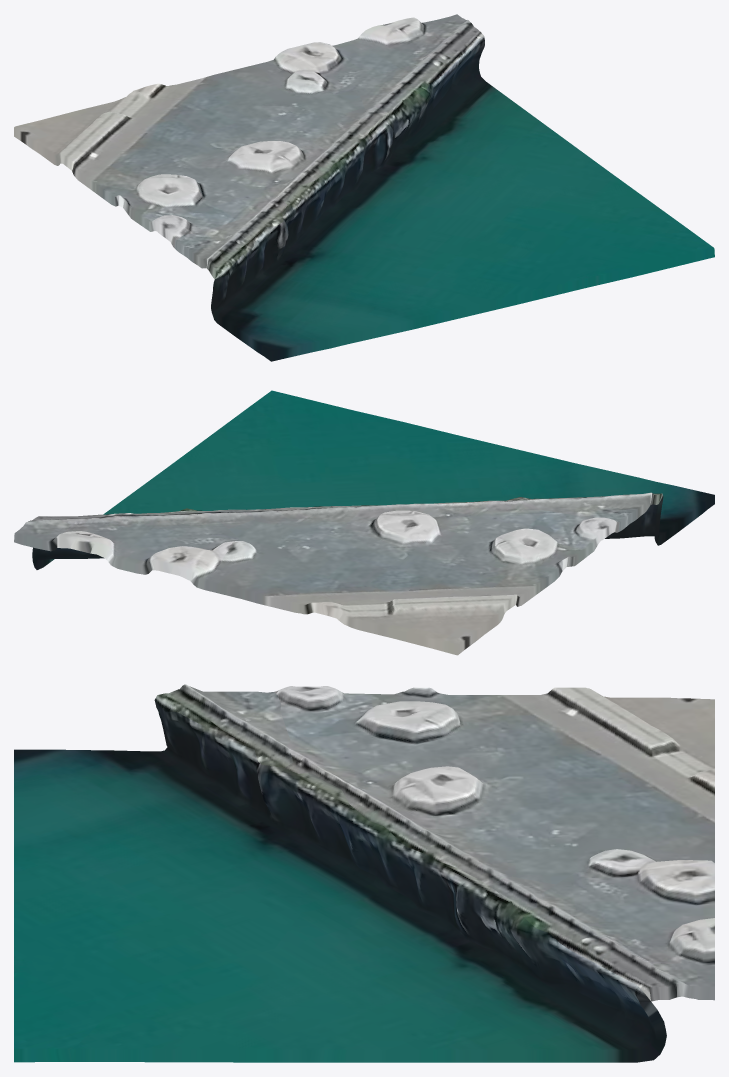
Rendered from z20-167777-405202-h0-yup-uvflip-v3-world.glb.
The picture shows the model from 3 angles, top to bottom: view 1: azimuth 30°, elevation 25°; view 2: azimuth 150°, elevation 25°; view 3: azimuth 270°, elevation 25°; orthographic projection. The views are drawn at different scales.
Bounding box in the file's own units: 30.2 × 4.24 × 30.32.
Materials: 1 (1 with a texture image).
